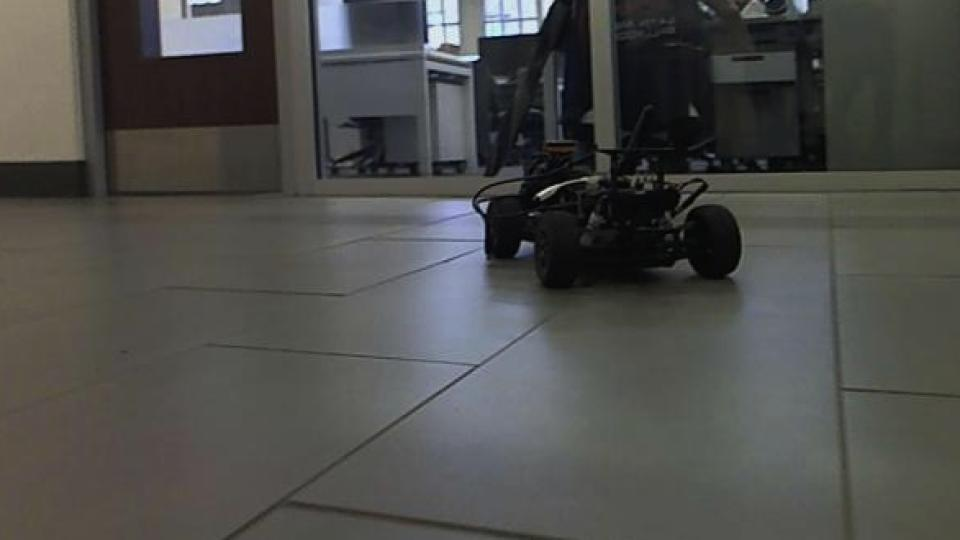car: (468, 102, 746, 291)
